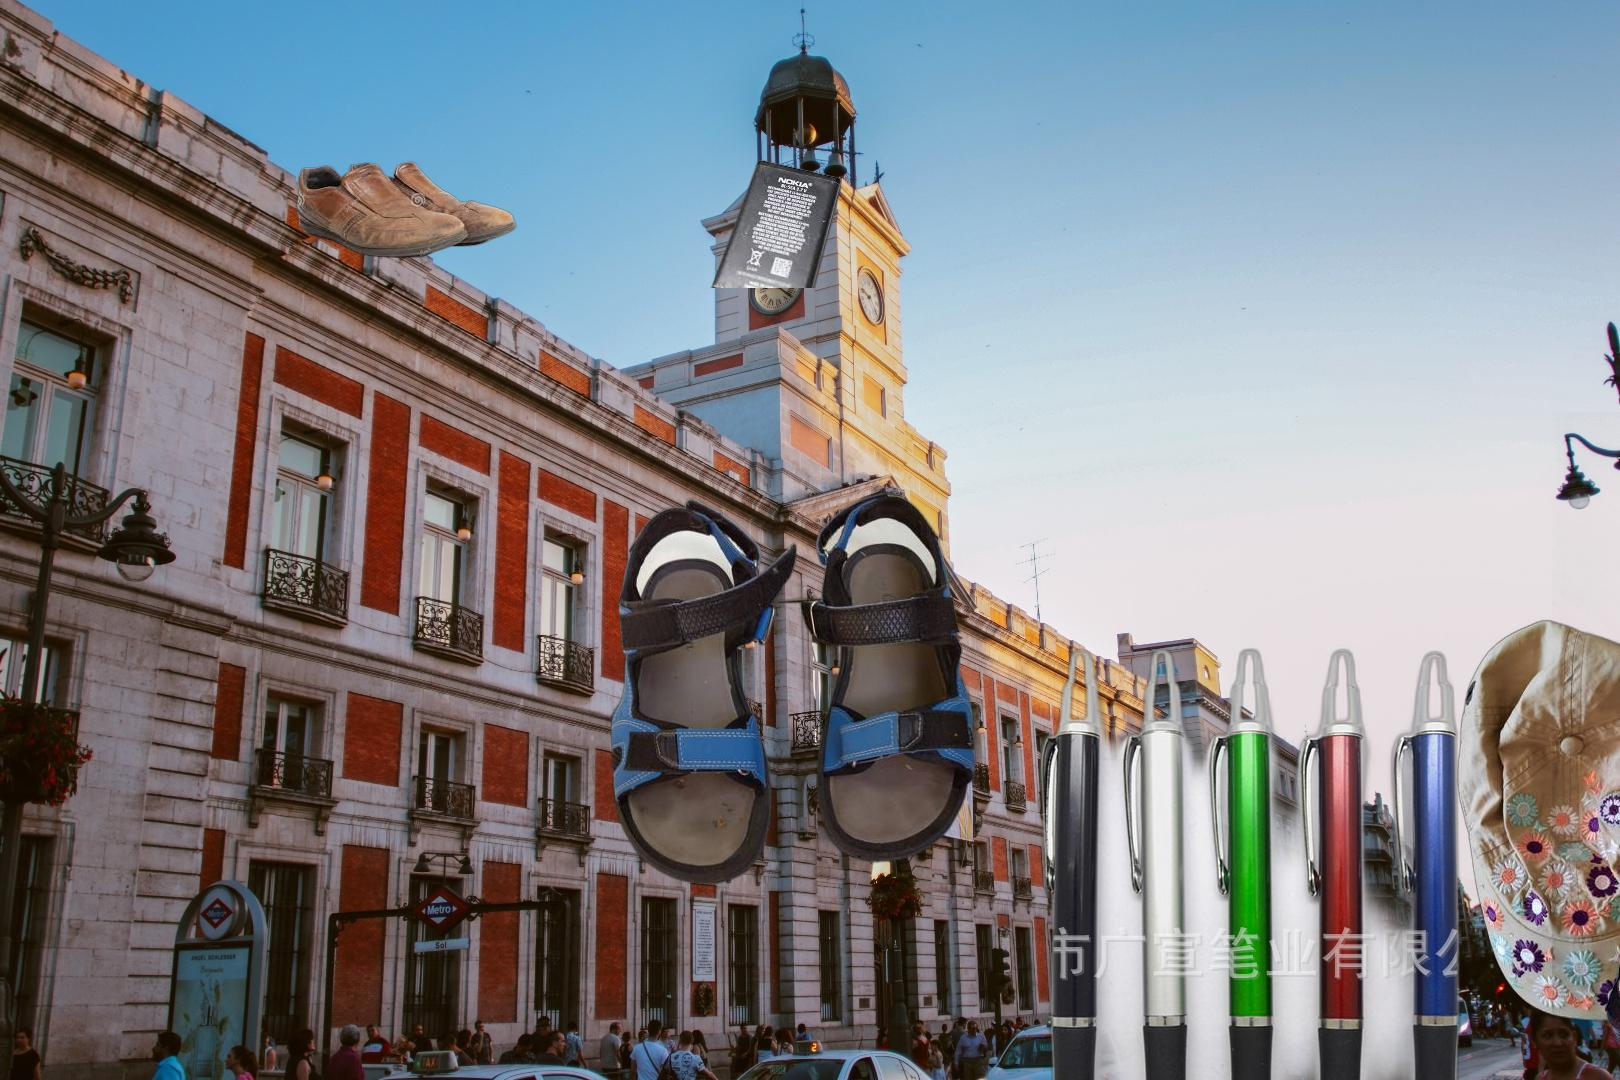battery: (708, 157, 843, 288)
clothes: (1455, 616, 1620, 1027)
metal-cans: (1552, 412, 1620, 1080)
penholder: (1033, 642, 1495, 1080)
shoes: (607, 487, 979, 890), (294, 159, 520, 262), (1604, 943, 1620, 1080)
